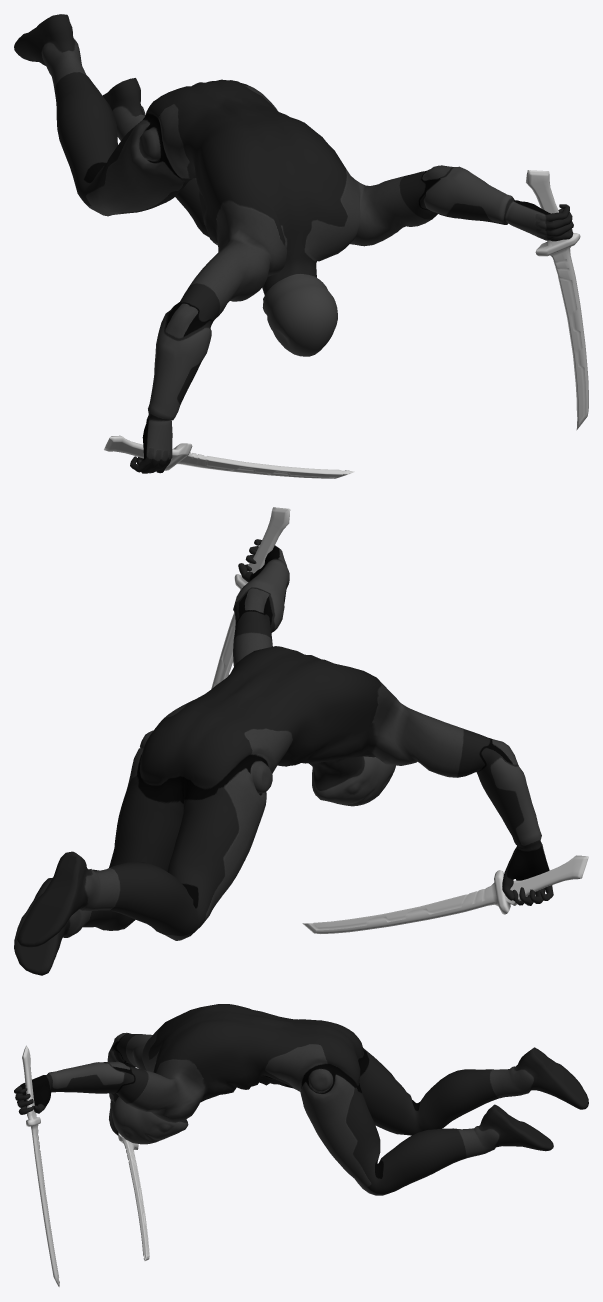
3 renders of one model, top to bottom at view 1: azimuth 30°, elevation 25°; view 2: azimuth 150°, elevation 25°; view 3: azimuth 270°, elevation 25°, orthographic. The views are drawn at different scales.
Visible parts, largest first — view 1: Cyborg_Ninja_Killer, Sword_l, Sword_l001; view 2: Cyborg_Ninja_Killer, Sword_l001, Sword_l; view 3: Cyborg_Ninja_Killer, Sword_l, Sword_l001.
Boxes of the visible parts, x1,y1,x2,y2 form: Cyborg_Ninja_Killer: (14,14,573,473); Sword_l: (526,170,588,430); Sword_l001: (104,435,354,478); Cyborg_Ninja_Killer: (14,539,553,975); Sword_l001: (302,855,588,933); Sword_l: (211,507,290,689); Cyborg_Ninja_Killer: (14,1004,588,1195); Sword_l: (22,1045,59,1287); Sword_l001: (118,1132,149,1260).
Size of the model in its own units: 134 by 99.92 by 206.
